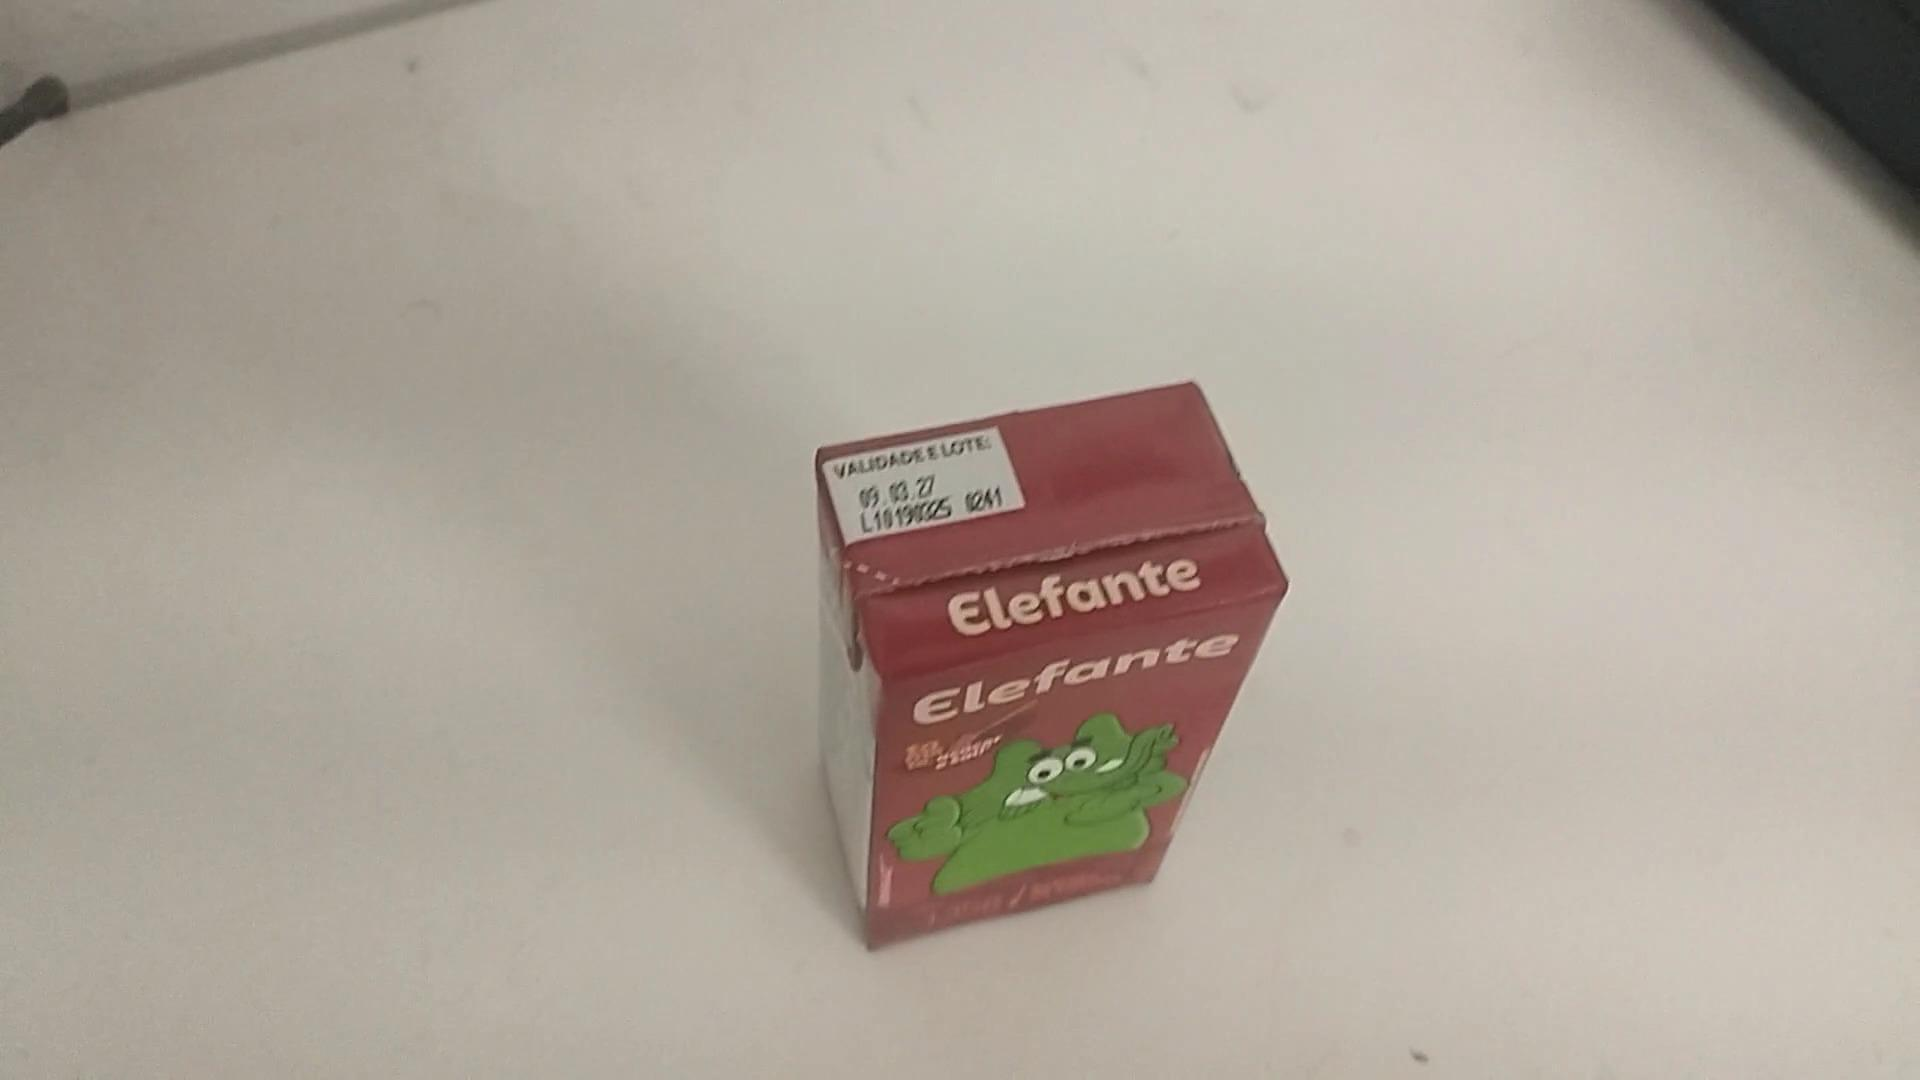tomate: (799, 373, 1294, 951)
